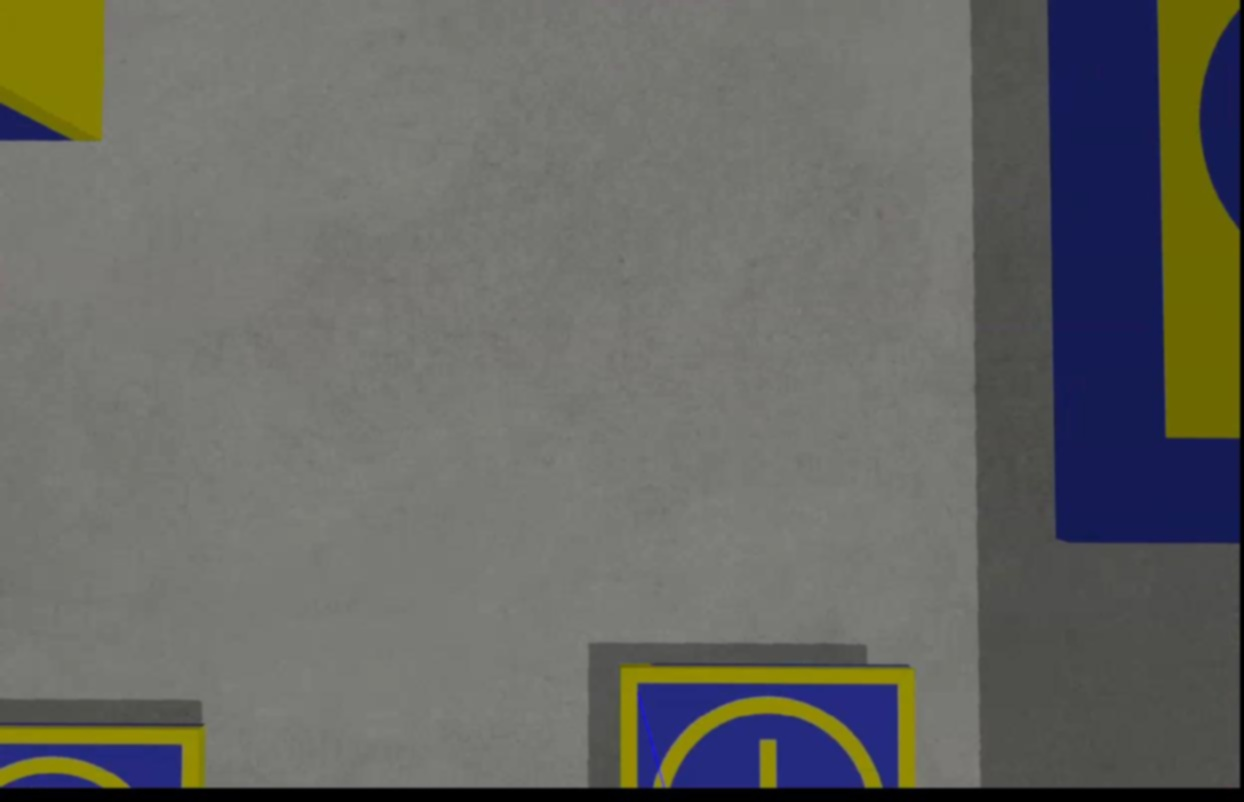large_base: (1047, 2, 1240, 540)
small_base: (617, 662, 917, 788), (0, 722, 210, 788)
